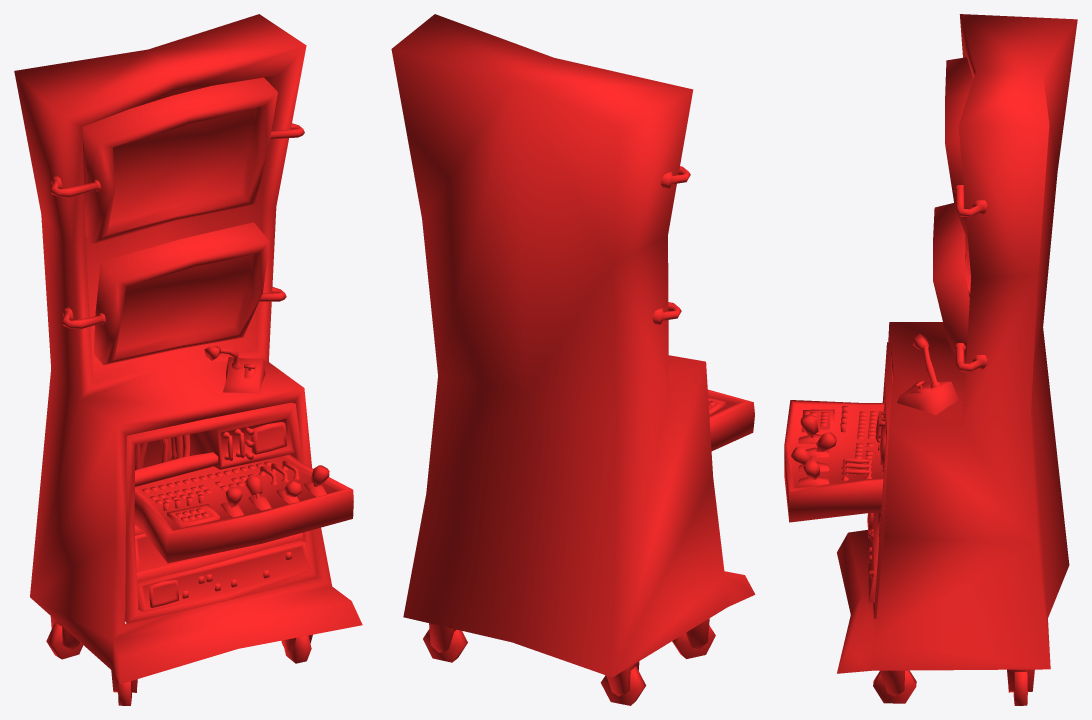
The model's file is MOD_RegieB.FBX.
3 renders of one model, left to right at view 1: azimuth 30°, elevation 25°; view 2: azimuth 150°, elevation 25°; view 3: azimuth 270°, elevation 25°, orthographic. The views are drawn at different scales.
Visible parts, largest first — view 1: MOD_RegieB; view 2: MOD_RegieB; view 3: MOD_RegieB.
Part boxes in pixels (bbox=[...]): MOD_RegieB: bbox=[14, 14, 362, 705]; MOD_RegieB: bbox=[391, 14, 755, 705]; MOD_RegieB: bbox=[784, 14, 1077, 705].
Bounding box in the file's own units: 162 × 361 × 161.
